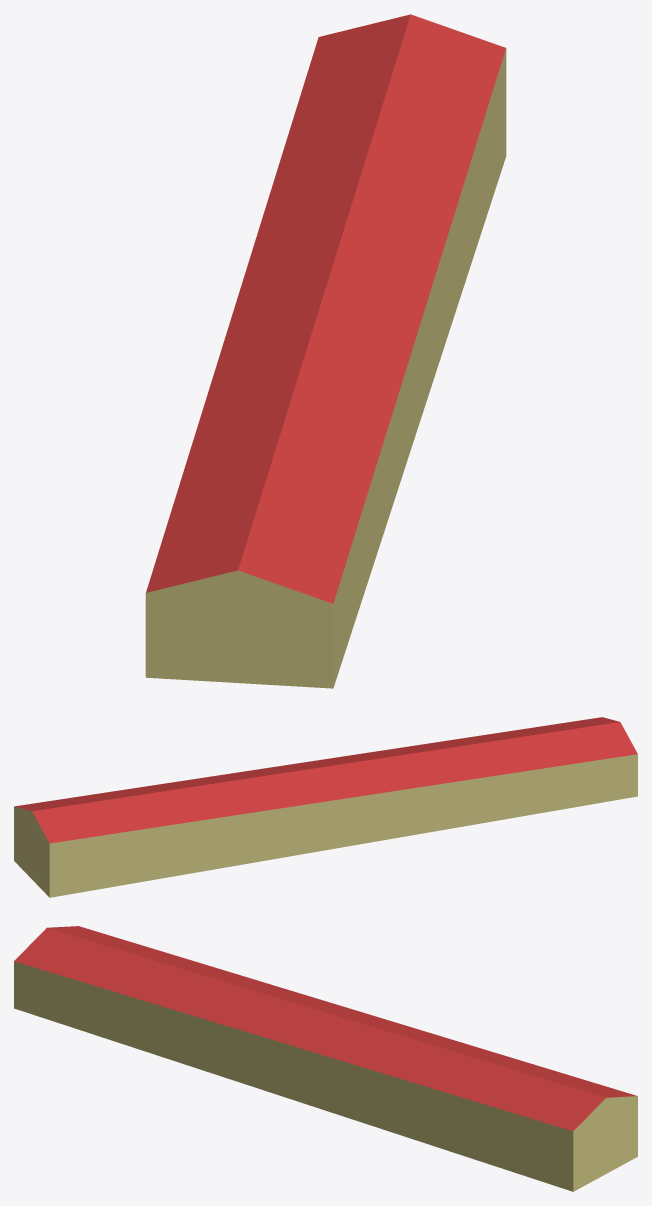
The picture shows the model from 3 angles, top to bottom: view 1: azimuth 30°, elevation 25°; view 2: azimuth 150°, elevation 25°; view 3: azimuth 270°, elevation 25°; orthographic projection. The views are drawn at different scales.
Bounding box in the file's own units: 50.03 × 60.33 × 8.13.
